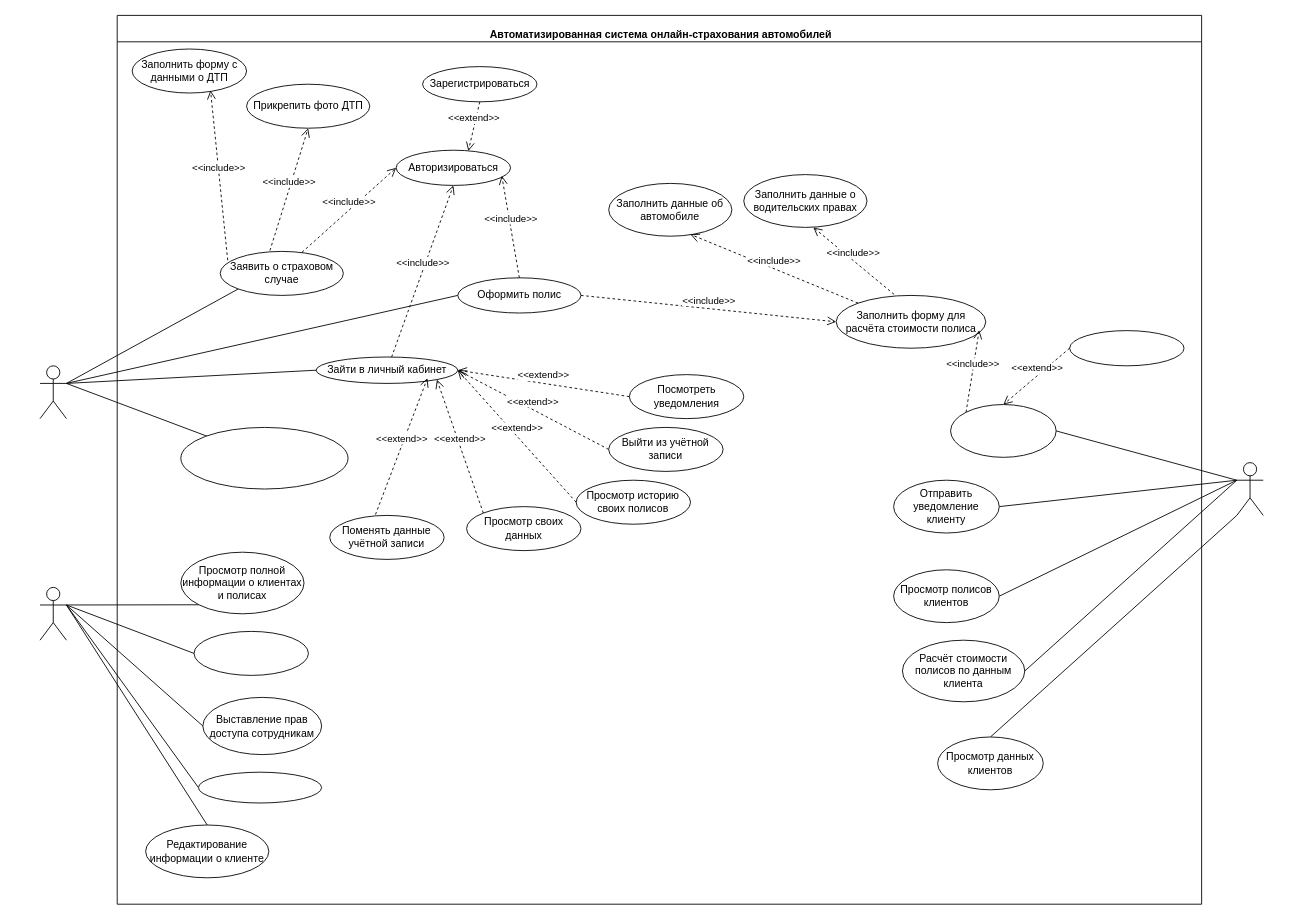
Some shapes in this 1306 by 920 pixel diagram are drawn without their labels. The shapes that lost their labels are listed below. From the top down, each one's centre as x and y in pixels, then its label:
At point (1126, 348): "Применить скидку".
At point (52, 392): "Страхователь".
At point (1003, 430): "Оформить полис за клиента".
At point (264, 458): "Просмотр информации о компании на главной и информационной страницах".
At point (1249, 488): "Страховой агент".
At point (52, 613): "Администратор".
At point (250, 653): "Редактирование полисов и тарифов".
At point (260, 787): "Добавление акций".
